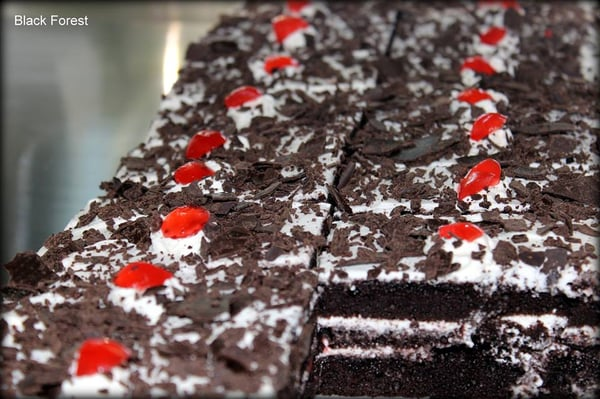sushi: (5, 3, 597, 393)
